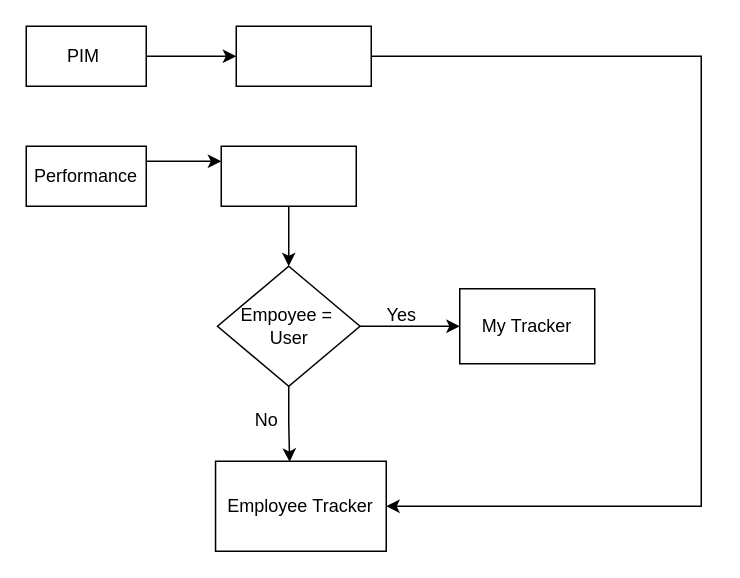
This 740x578 diagram has some shape labels left out. Here are the shapes that lost their labels. From the top down, the box of each, then its label:
(235, 25, 371, 86): Create Employee
(220, 145, 356, 206): Tracker
